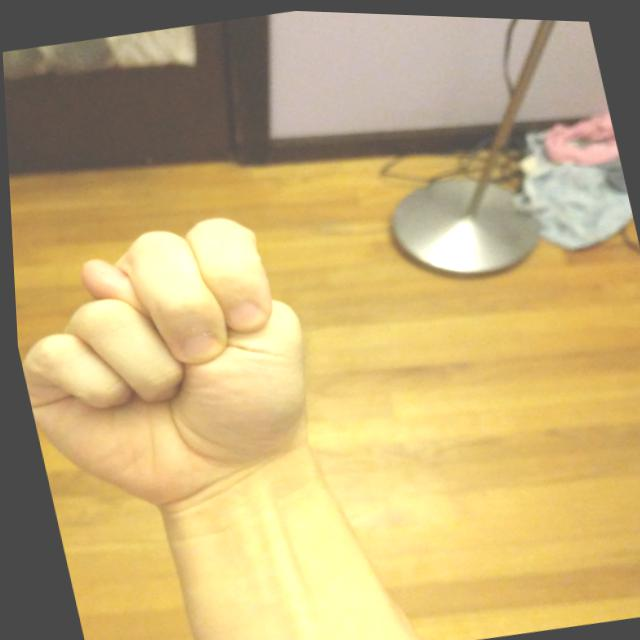N: (8, 193, 346, 534)
